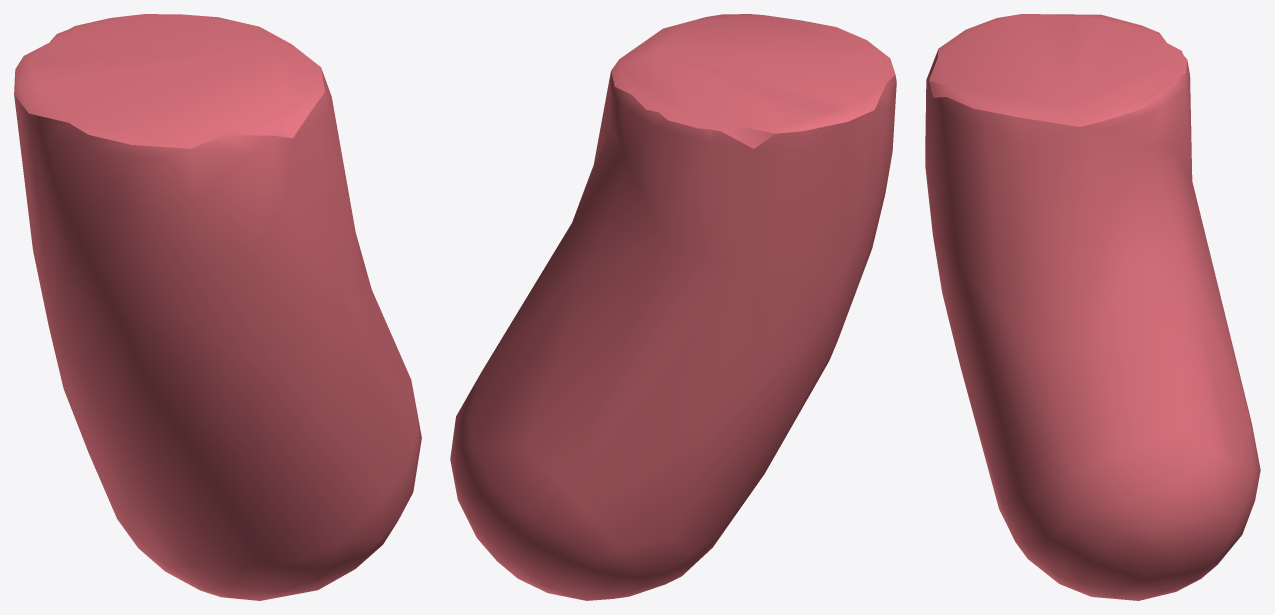
The model's file is fma3736_fj3413.glb.
3 views of the same model, side by side, from view 1: azimuth 30°, elevation 25°; view 2: azimuth 150°, elevation 25°; view 3: azimuth 270°, elevation 25° (orthographic). The views are drawn at different scales.
Parts seen in each view (by area): view 1: FMA3736_FJ3413; view 2: FMA3736_FJ3413; view 3: FMA3736_FJ3413.
Boxes of the visible parts, x1=… form: FMA3736_FJ3413: x1=14, y1=14, x2=421, y2=600; FMA3736_FJ3413: x1=450, y1=14, x2=896, y2=600; FMA3736_FJ3413: x1=925, y1=14, x2=1260, y2=600.
Size of the model in its own units: 0.0358 by 0.0478 by 0.0308.
